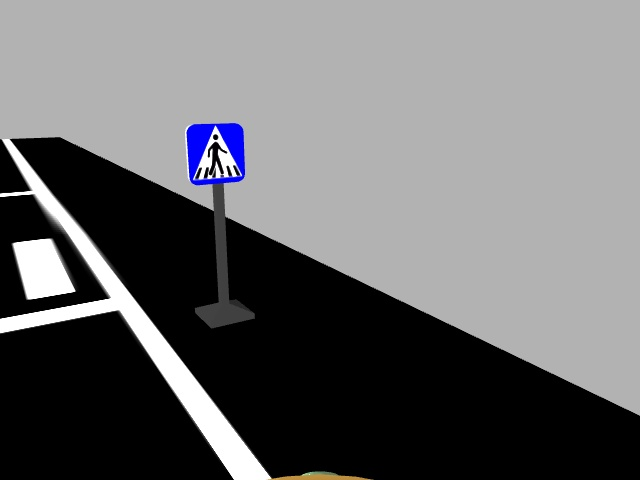Crosswalk: (181, 121, 249, 185)
